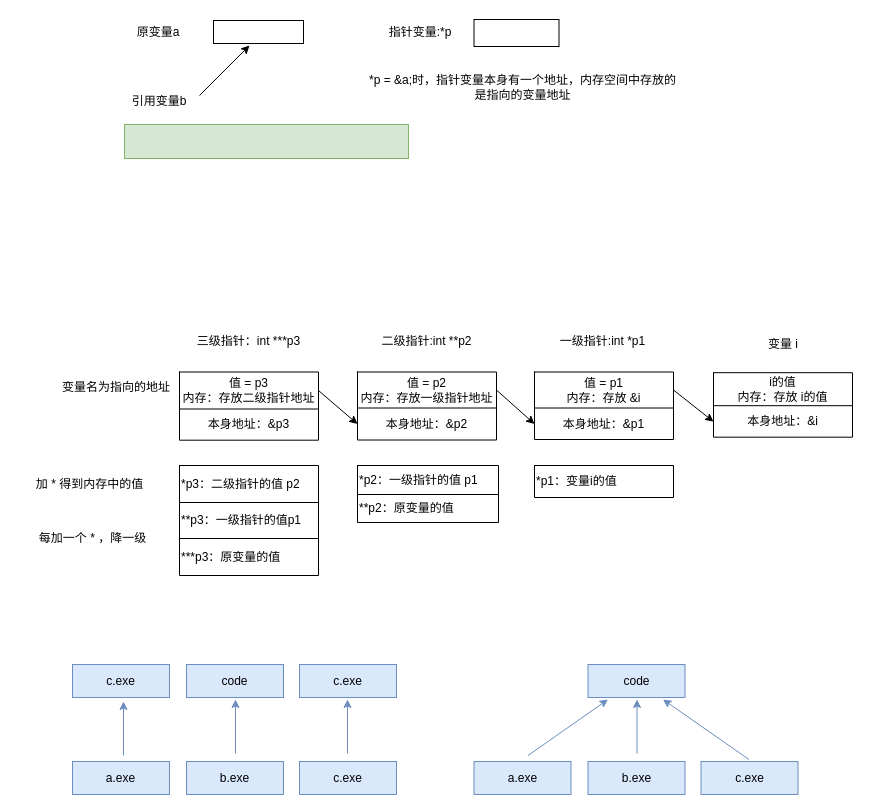
Image size: 870x812. Some labels were removed from this diagram. The shapes that lost their labels are listed below. From the top down, each one's centre as x and y in pixels, then its label:
pixel 516 32: 变量a地址
pixel 266 141: 引用：变量的另一个别名，没有开辟新内存空间
